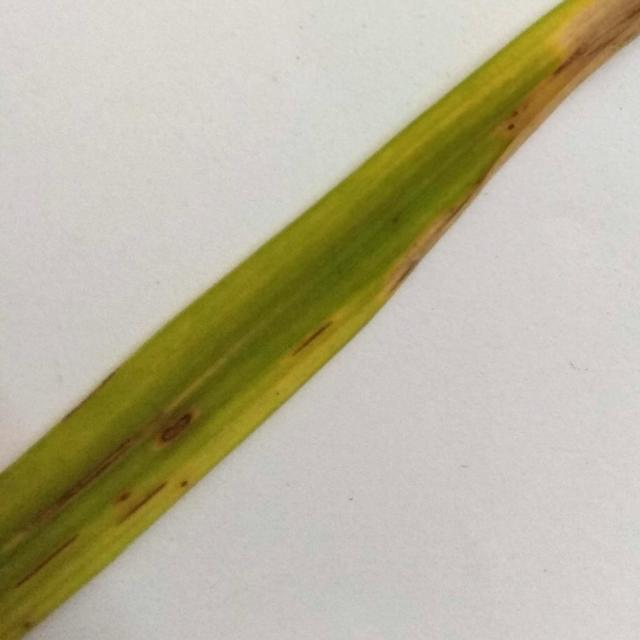Leaf_Blast: (124, 378, 210, 471)
